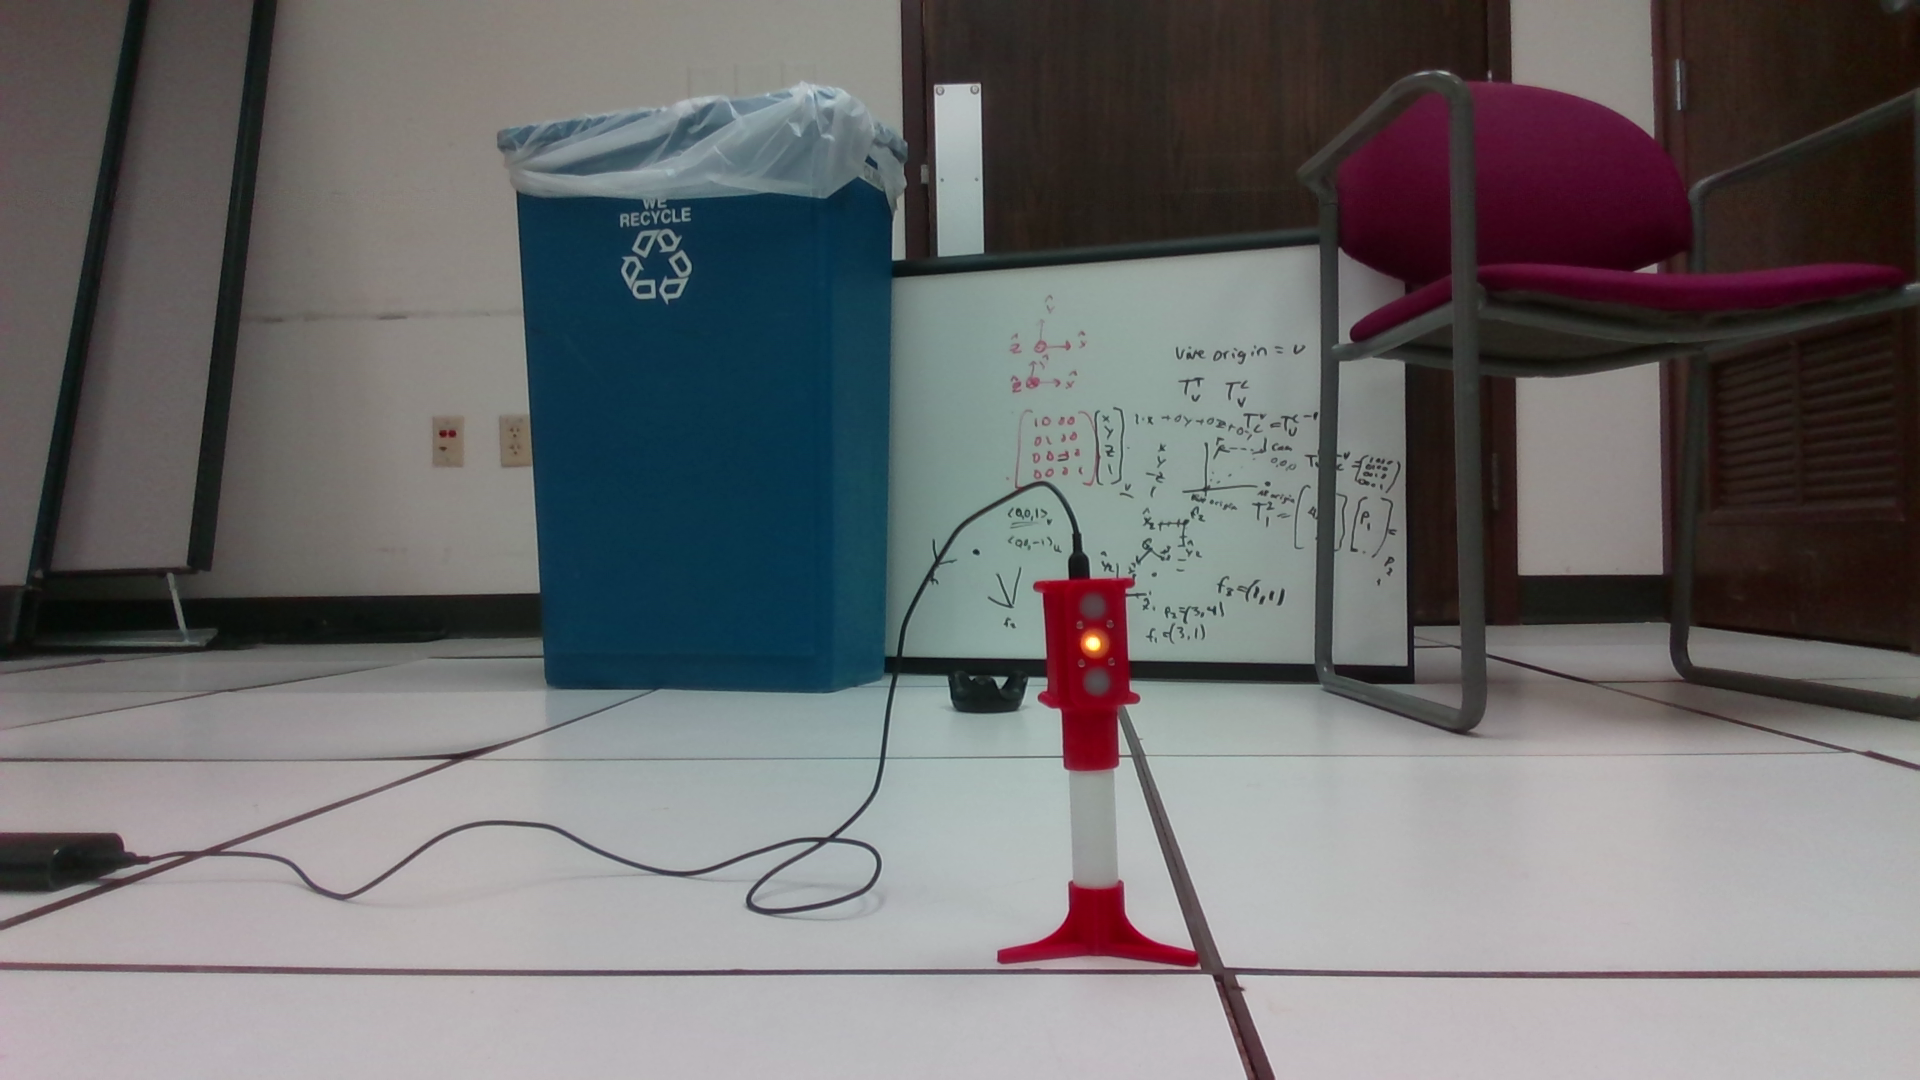stoplight: (1030, 580, 1146, 771)
